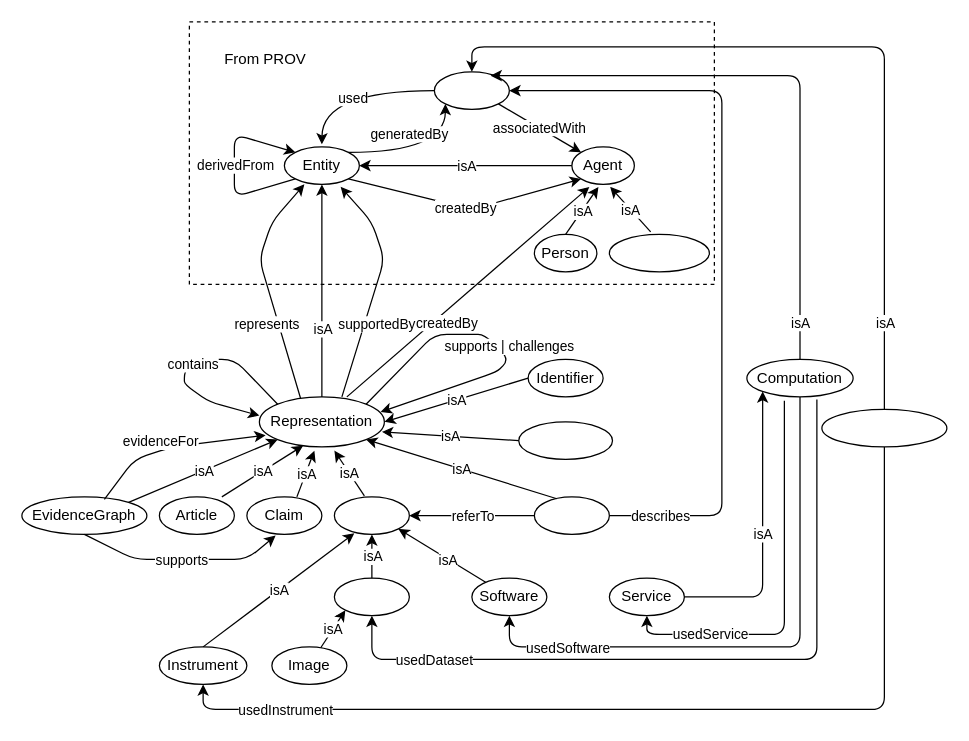
Image size: 969x741. Some labels were removed from this diagram. Each missing label, with the centre of its shape:
Activity: the point at 471,90
DataAcquisition: the point at 884,427
Dataset: the point at 371,596
Material: the point at 371,515
Method: the point at 571,515
Organization: the point at 658,252
Reference: the point at 565,440
